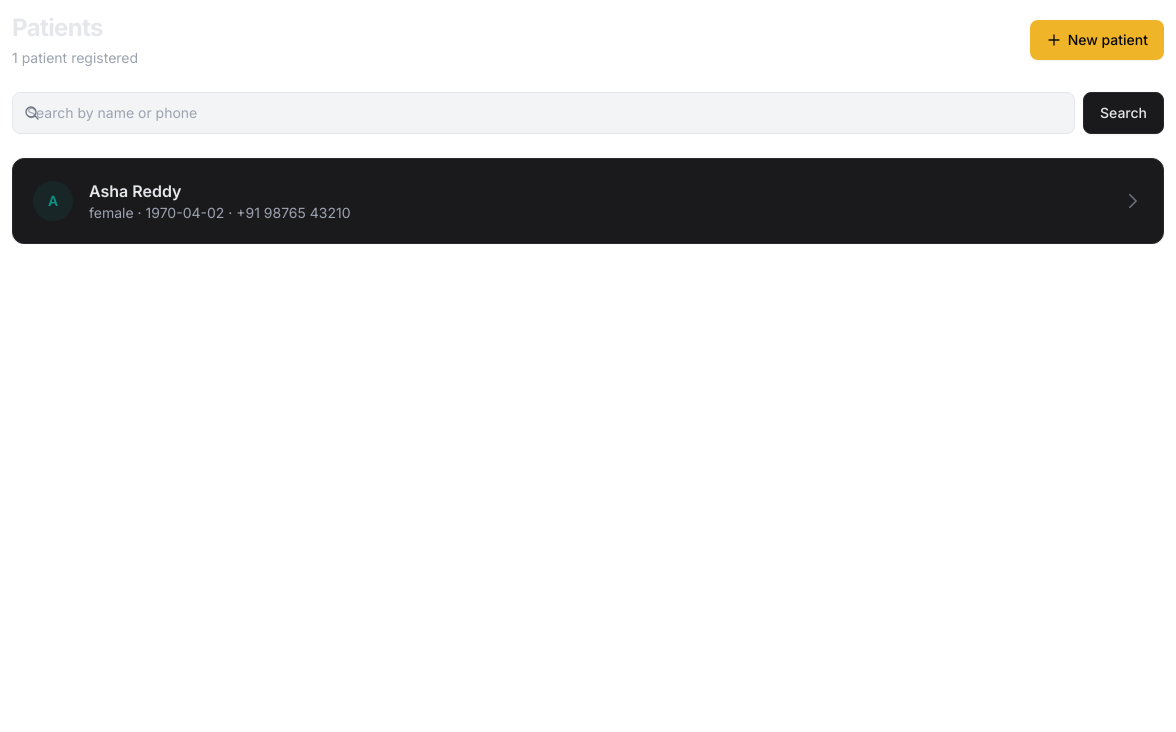
Test: PatientsPage › creates a patient with the consent flag and reloads the roster
The width and height of the screenshot is (1176, 732).
Expected: the text "Asha Reddy" is shown, [89,181,182,201]
Click the button "New patient": (1097, 40) [1030,20,1164,60]
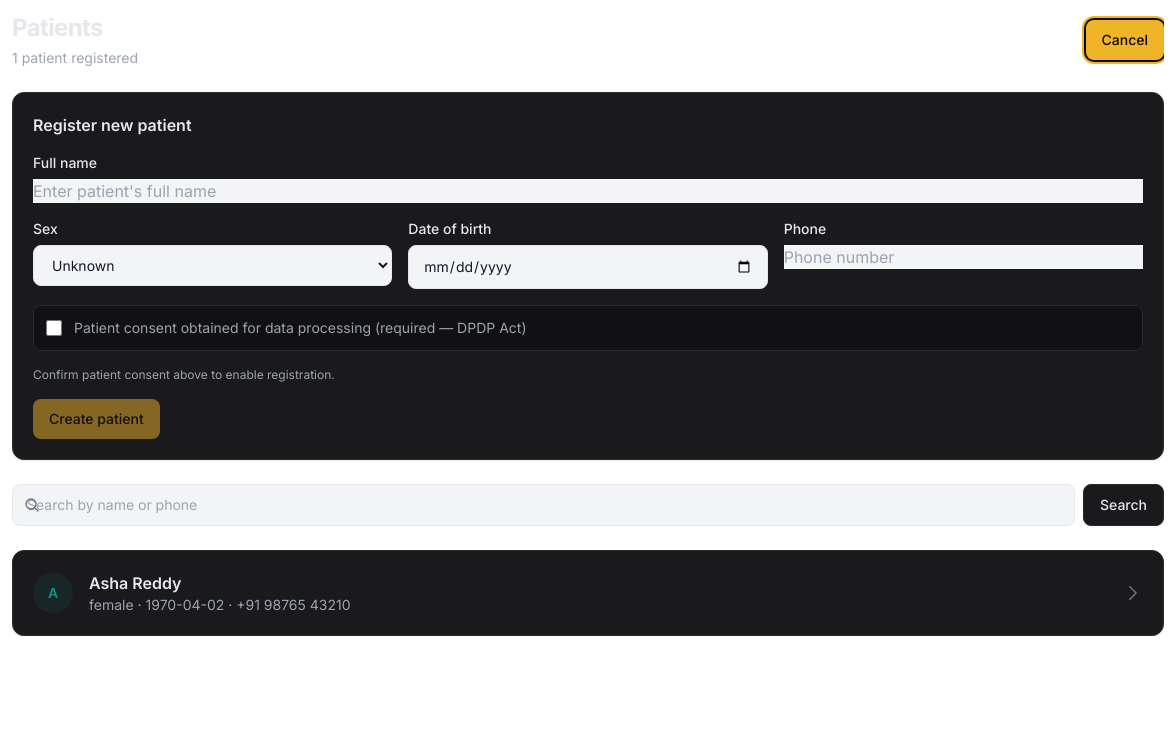
In the field with placeholder "Enter patient's full name": (588, 191) [33,179,1143,203], type "New Patient"
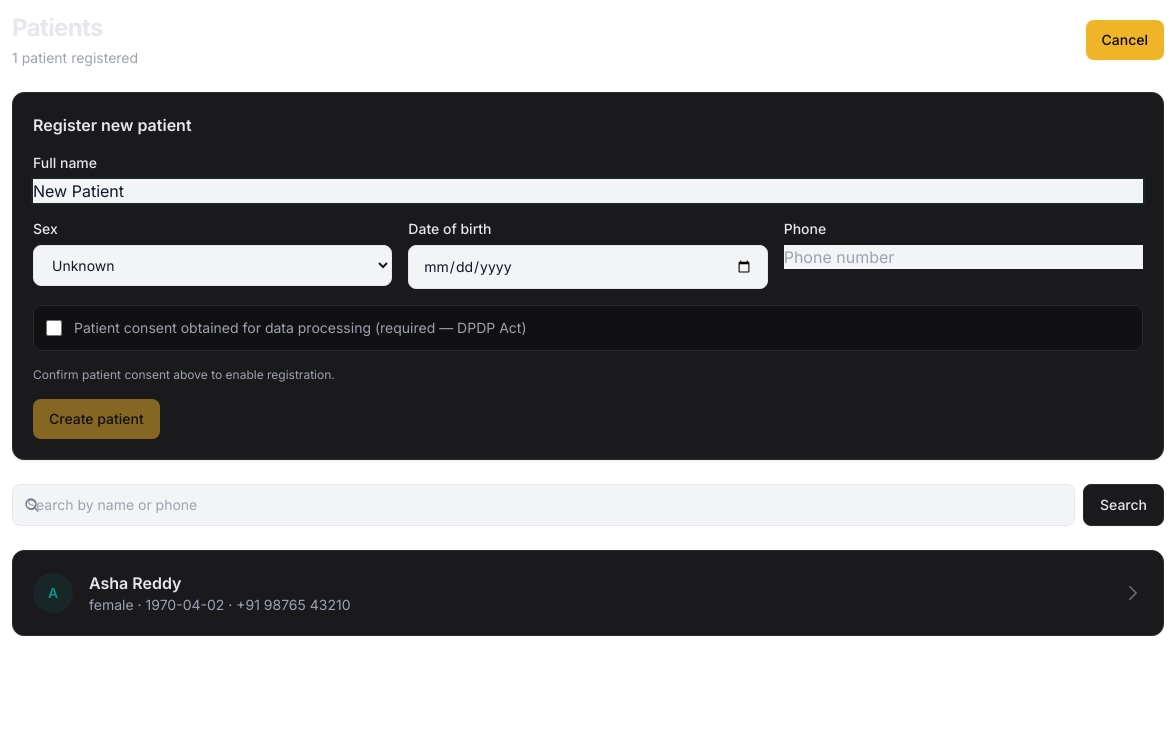
Select "Male" in the dropdown: (213, 266) [33,245,392,286]
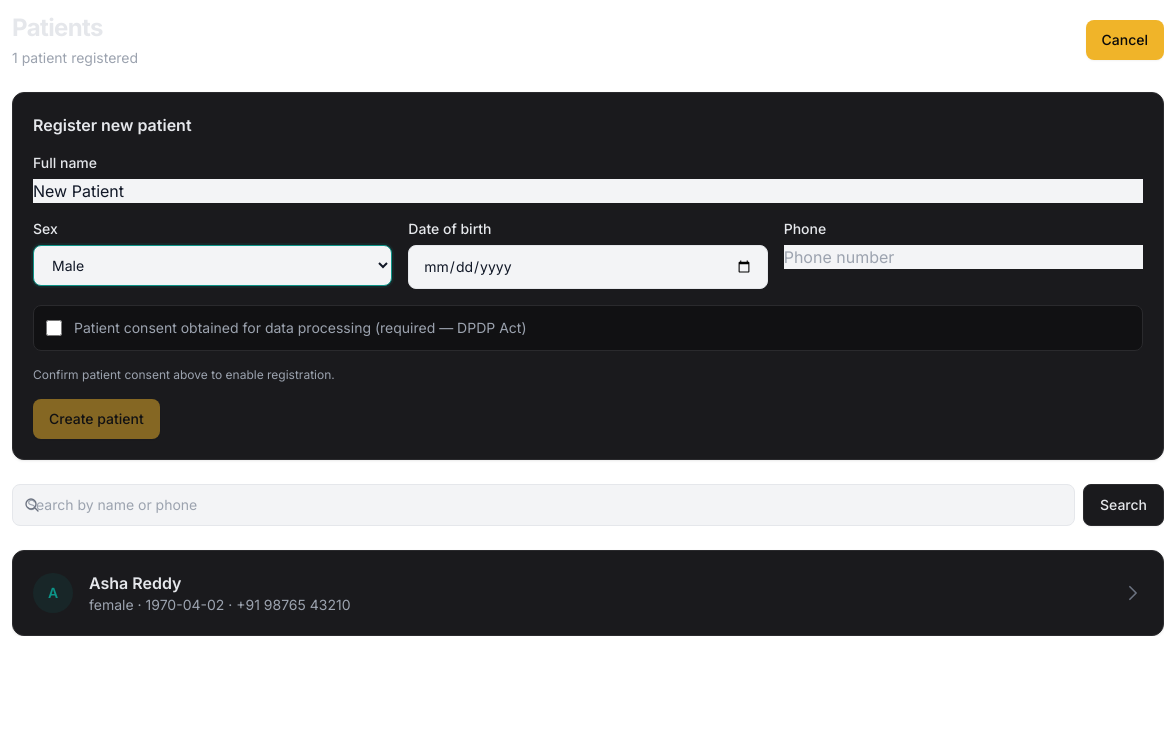
Click the checkbox: (54, 328) [46,320,62,336]
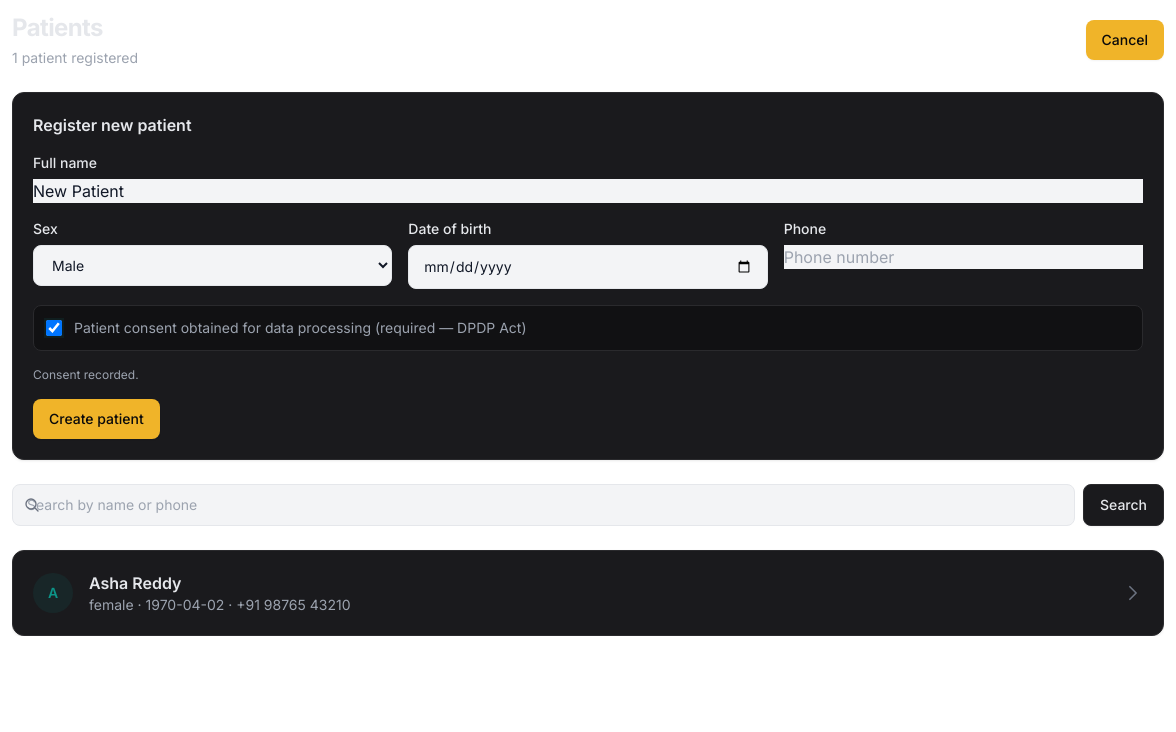
Click the button "Create patient": (96, 419) [33,399,160,439]
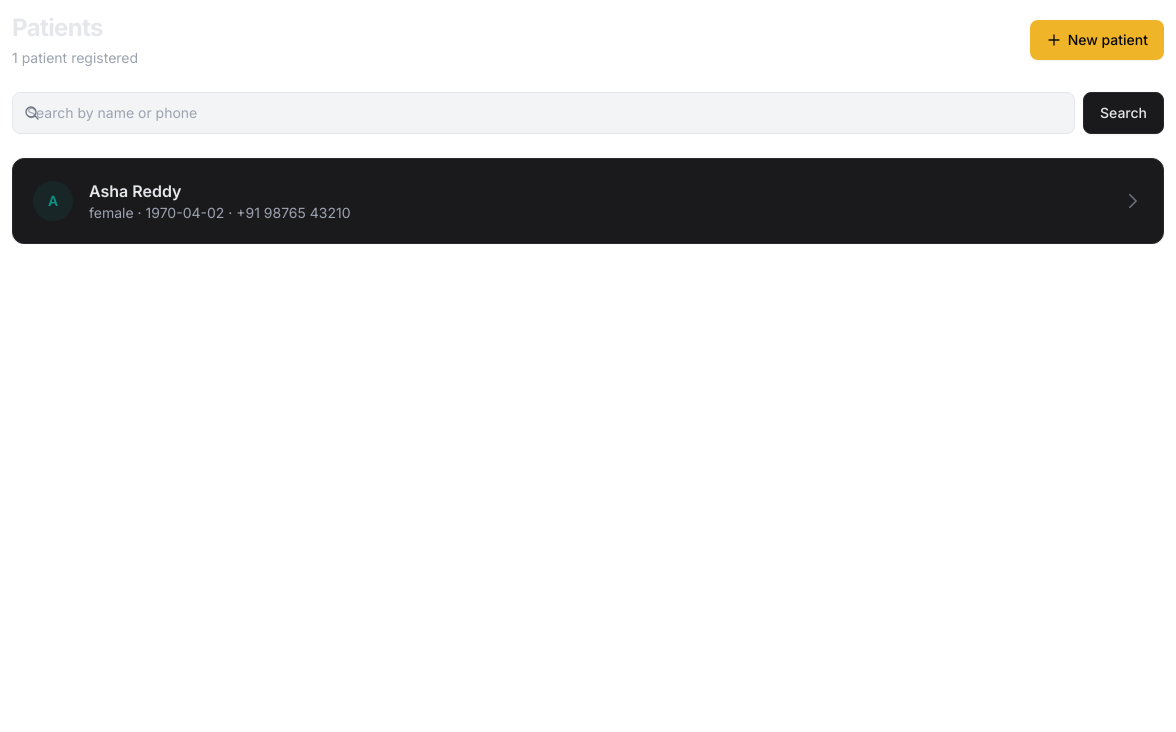
Expected: the button "Create patient" is gone
